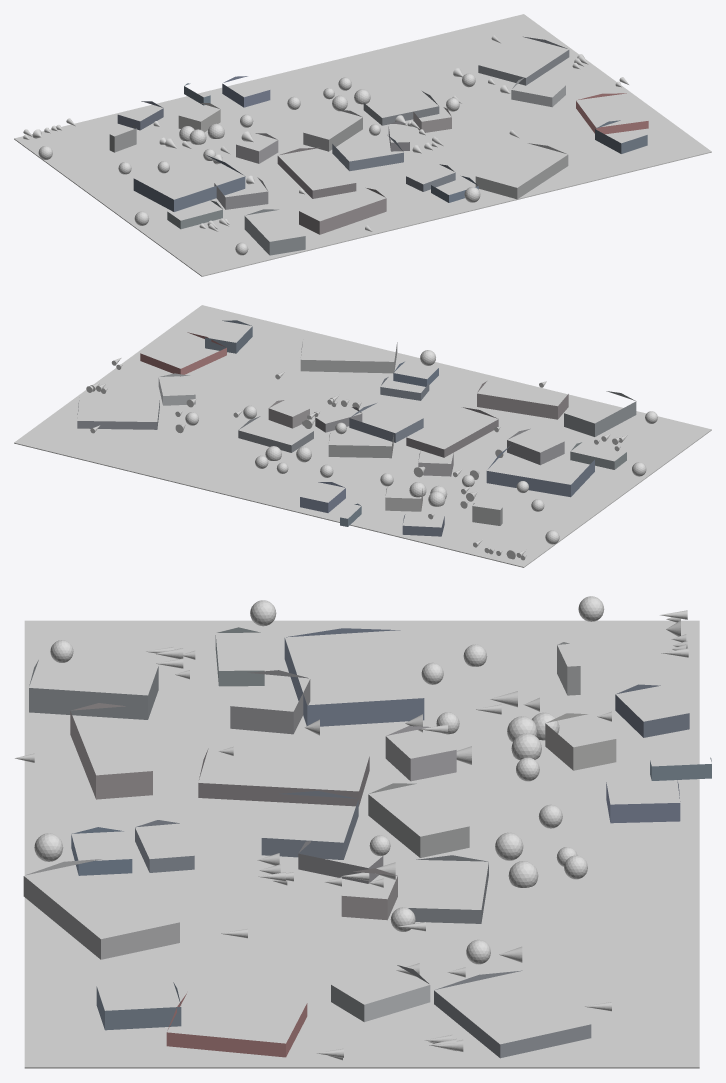
The model's file is scene_fac9727f-5906-4c8b-99d3-33e944eab88e.glb.
3 renders of one model, top to bottom at view 1: azimuth 30°, elevation 25°; view 2: azimuth 150°, elevation 25°; view 3: azimuth 270°, elevation 25°, orthographic. The views are drawn at different scales.
Visible parts, largest first — view 1: Ground_Base, BLD-001, BLD-003, BLD-002, BLD-008, BLD-006, BLD-007, BLD-010, BLD-005, BLD-011, BLD-004, BLD-012 (+10 smaller); view 2: Ground_Base, BLD-001, BLD-003, BLD-002, BLD-008, BLD-007, BLD-010, BLD-005, BLD-011, BLD-004, BLD-006, BLD-009 (+10 smaller); view 3: Ground_Base, BLD-002, BLD-001, BLD-008, BLD-006, BLD-007, BLD-010, BLD-003, BLD-004, BLD-011, BLD-005, BLD-018 (+13 smaller).
Part boxes in pixels (box(x1,y1,x2,y2)): Ground_Base: box(14, 14, 711, 276); BLD-001: box(133, 155, 245, 211); BLD-003: box(299, 188, 386, 234); BLD-002: box(475, 143, 568, 199); BLD-008: box(244, 209, 305, 255); BLD-006: box(478, 36, 569, 85); BLD-007: box(277, 147, 356, 198); BLD-010: box(303, 110, 362, 151); BLD-005: box(332, 135, 403, 171); BLD-011: box(214, 177, 268, 209); BLD-004: box(576, 93, 648, 134); BLD-012: box(595, 120, 647, 153); Ground_Base: box(14, 305, 711, 567); BLD-001: box(486, 445, 594, 497); BLD-003: box(477, 381, 568, 419); BLD-002: box(300, 342, 397, 373); BLD-008: box(564, 391, 636, 436); BLD-007: box(406, 407, 498, 457); BLD-010: box(328, 433, 393, 458); BLD-005: box(349, 403, 423, 442); BLD-011: box(507, 428, 564, 465); BLD-004: box(140, 332, 226, 376); BLD-006: box(77, 400, 159, 429); BLD-009: box(238, 416, 313, 452); Ground_Base: box(24, 620, 699, 1068); BLD-002: box(23, 859, 179, 959); BLD-001: box(284, 628, 424, 726); BLD-008: box(29, 660, 158, 719); BLD-006: box(434, 970, 591, 1058); BLD-007: box(198, 748, 369, 806); BLD-010: box(368, 783, 469, 857); BLD-003: box(70, 703, 152, 799); BLD-004: box(166, 993, 307, 1057); BLD-011: box(230, 670, 310, 734); BLD-005: box(261, 791, 358, 859); BLD-018: box(331, 965, 430, 1021).
Bounding box in the file's own units: 244 × 9.66 × 160.
